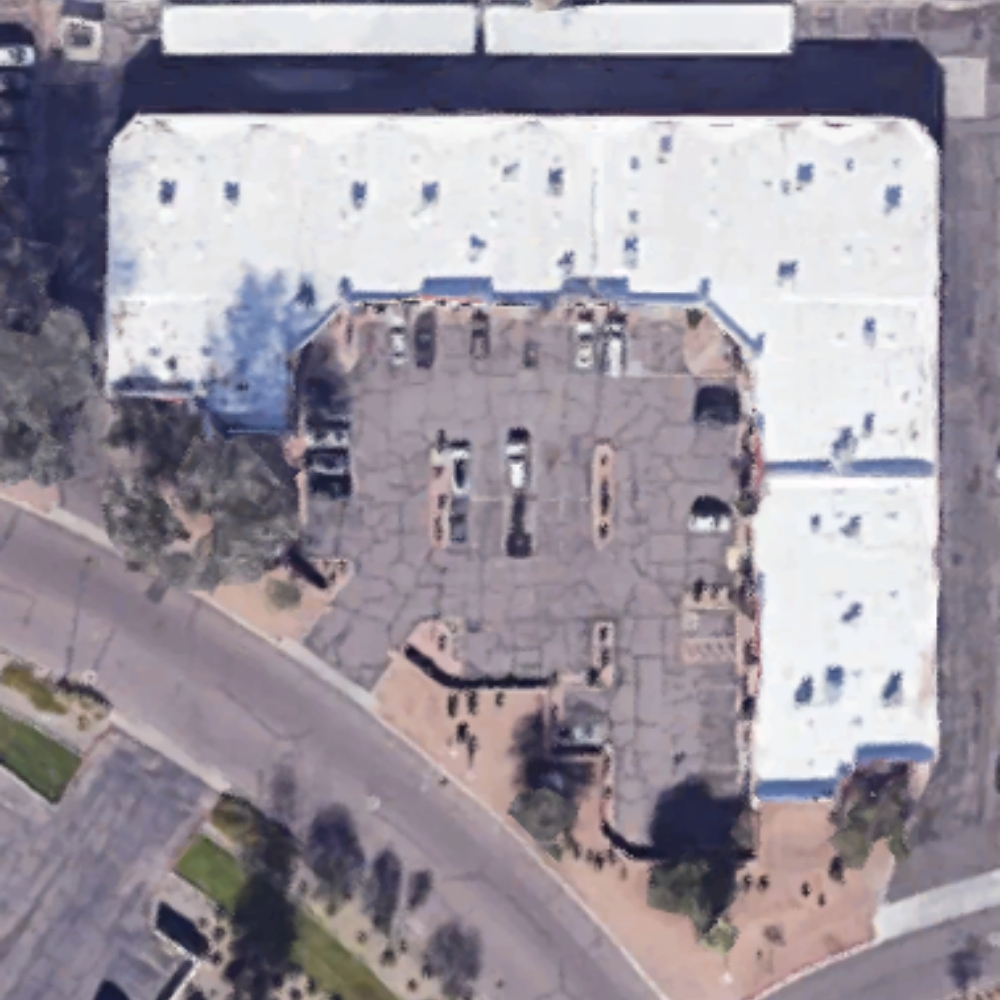parking: (290, 300, 750, 855)
